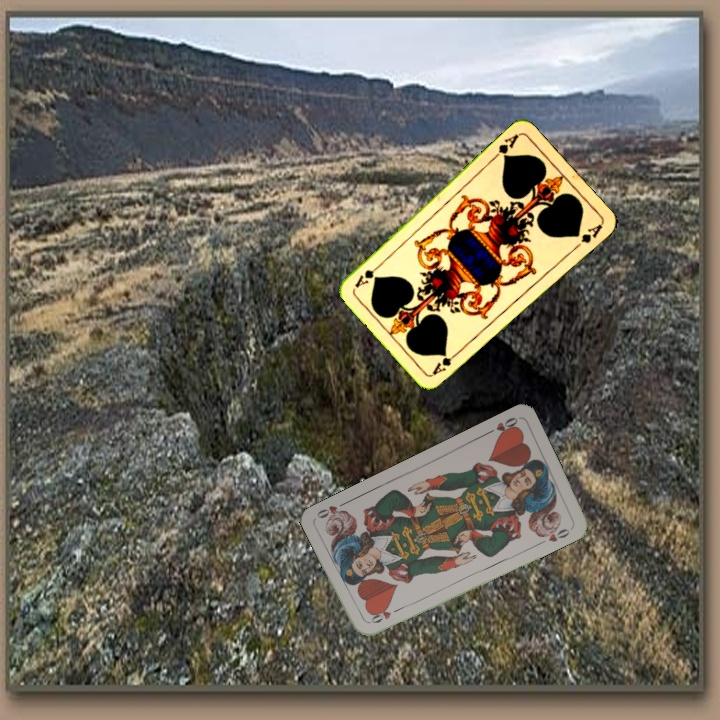GA: (488, 129, 521, 162), (428, 347, 463, 378)
HO: (482, 413, 521, 439), (365, 603, 404, 626)
